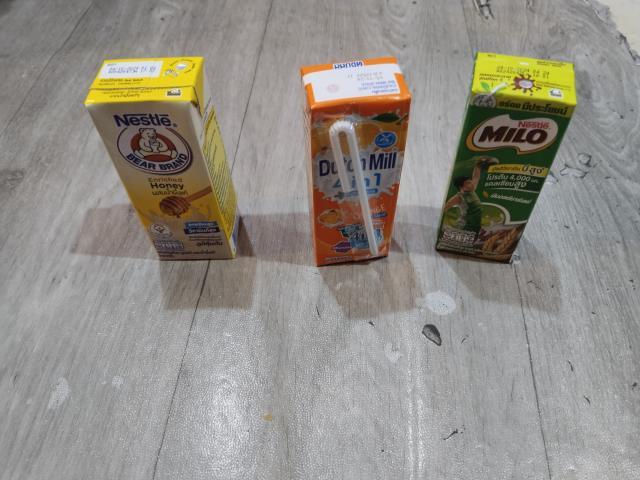drink_box: (76, 51, 248, 264), (430, 48, 580, 270), (298, 54, 417, 273)
